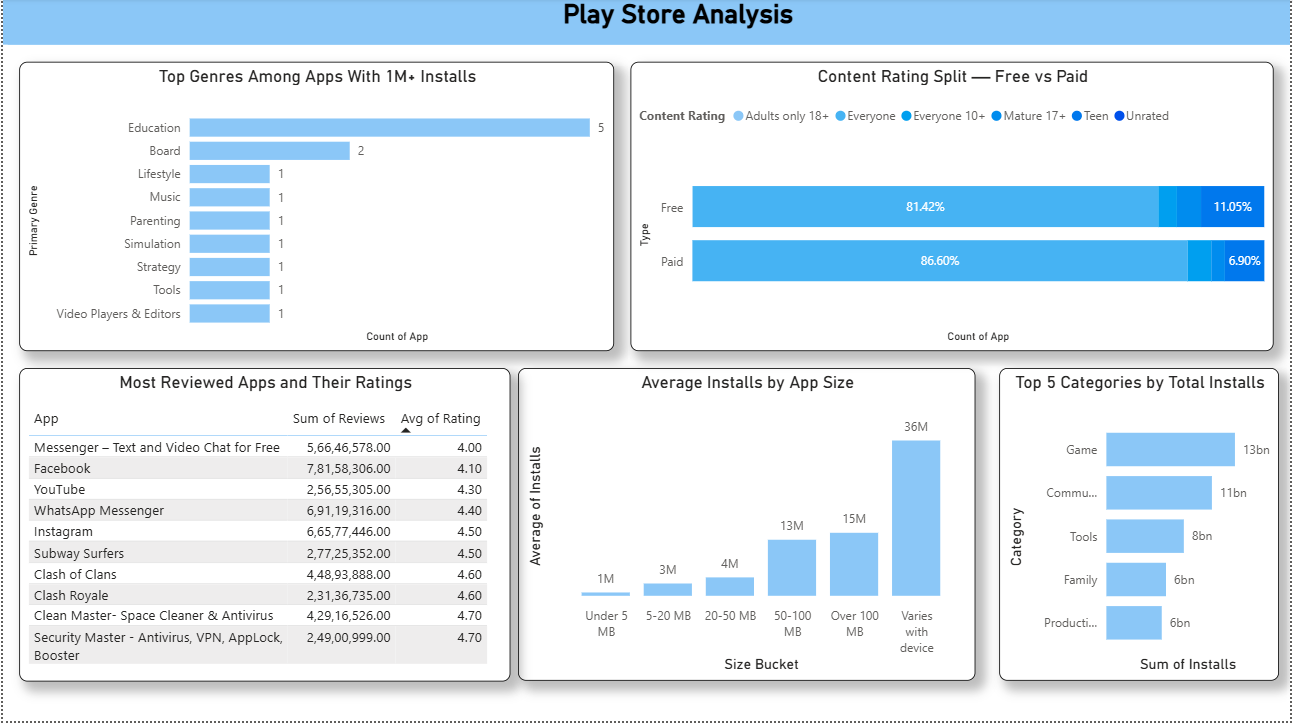

What the dashboard file says about the page in this screenshot:
{"tool":"powerbi","page":{"name":"Medium 2","canvas":[1280,720],"ordinal":2},"visuals":[{"type":"clusteredBarChart","title":"Top Genres Among Apps With 1M+ Installs","fields":{"Y":["CountNonNull(Apps.App)"],"Category":["Apps.Primary Genre"]},"box":[16,64,592,288],"z":0},{"type":"clusteredColumnChart","title":"Average Installs by App Size","fields":{"Category":["Apps.Size Bucket"],"Y":["Avg(Apps.Installs)"]},"box":[512,368,455.6,311.5],"z":1000},{"type":"tableEx","title":" Most Reviewed Apps and Their Ratings","fields":{"Values":["Apps.App","Sum(Apps.Reviews)","Avg(Apps.Rating)"]},"box":[16,368,489,311.8],"z":2000},{"type":"hundredPercentStackedBarChart","title":"Content Rating Split — Free vs Paid","fields":{"Y":["CountNonNull(Apps.App)"],"Category":["Apps.Type"],"Series":["Apps.Content Rating"]},"box":[624,64,640,288],"z":3000},{"type":"clusteredBarChart","title":"Top 5 Categories by Total Installs","fields":{"Category":["Apps.Category"],"Y":["Sum(Apps.Installs)"]},"box":[992,368,278.6,311.5],"z":4000},{"type":"textbox","title":"Play Store Analysis","box":[0,0,1344,48],"z":5000}]}

Visuals, with their boxes in screenshot pixels (x1, y1, x2, y2), scaled from the page's 1280x720 canvas onto the 1293x724 screenshot:
"Top Genres Among Apps With 1M+ Installs" clusteredBarChart: {"x1": 16, "y1": 64, "x2": 614, "y2": 354}
"Average Installs by App Size" clusteredColumnChart: {"x1": 517, "y1": 370, "x2": 977, "y2": 683}
" Most Reviewed Apps and Their Ratings" tableEx: {"x1": 16, "y1": 370, "x2": 510, "y2": 684}
"Content Rating Split — Free vs Paid" hundredPercentStackedBarChart: {"x1": 630, "y1": 64, "x2": 1277, "y2": 354}
"Top 5 Categories by Total Installs" clusteredBarChart: {"x1": 1002, "y1": 370, "x2": 1284, "y2": 683}
"Play Store Analysis" textbox: {"x1": 0, "y1": 0, "x2": 1292, "y2": 48}
